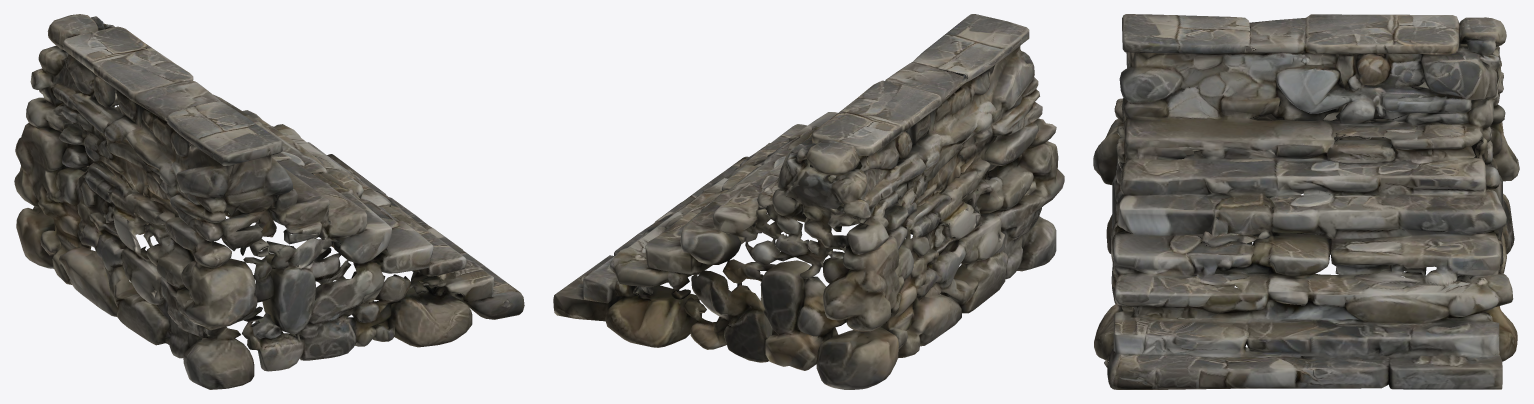
Rendered from nature-steps-stone.glb.
The picture shows the model from 3 angles, left to right: view 1: azimuth 30°, elevation 25°; view 2: azimuth 150°, elevation 25°; view 3: azimuth 270°, elevation 25°; orthographic projection. The views are drawn at different scales.
Parts seen in each view (by area): view 1: tripo_node_e94eb580-41bb-4cae-90b0-474b5453a181; view 2: tripo_node_e94eb580-41bb-4cae-90b0-474b5453a181; view 3: tripo_node_e94eb580-41bb-4cae-90b0-474b5453a181.
Boxes of the visible parts, x1=… form: tripo_node_e94eb580-41bb-4cae-90b0-474b5453a181: x1=14, y1=14, x2=524, y2=389; tripo_node_e94eb580-41bb-4cae-90b0-474b5453a181: x1=553, y1=14, x2=1064, y2=389; tripo_node_e94eb580-41bb-4cae-90b0-474b5453a181: x1=1093, y1=14, x2=1519, y2=389.
Size of the model in its own units: 2.17 by 1.5 by 2.38.
Materials: 1 (1 with a texture image).
